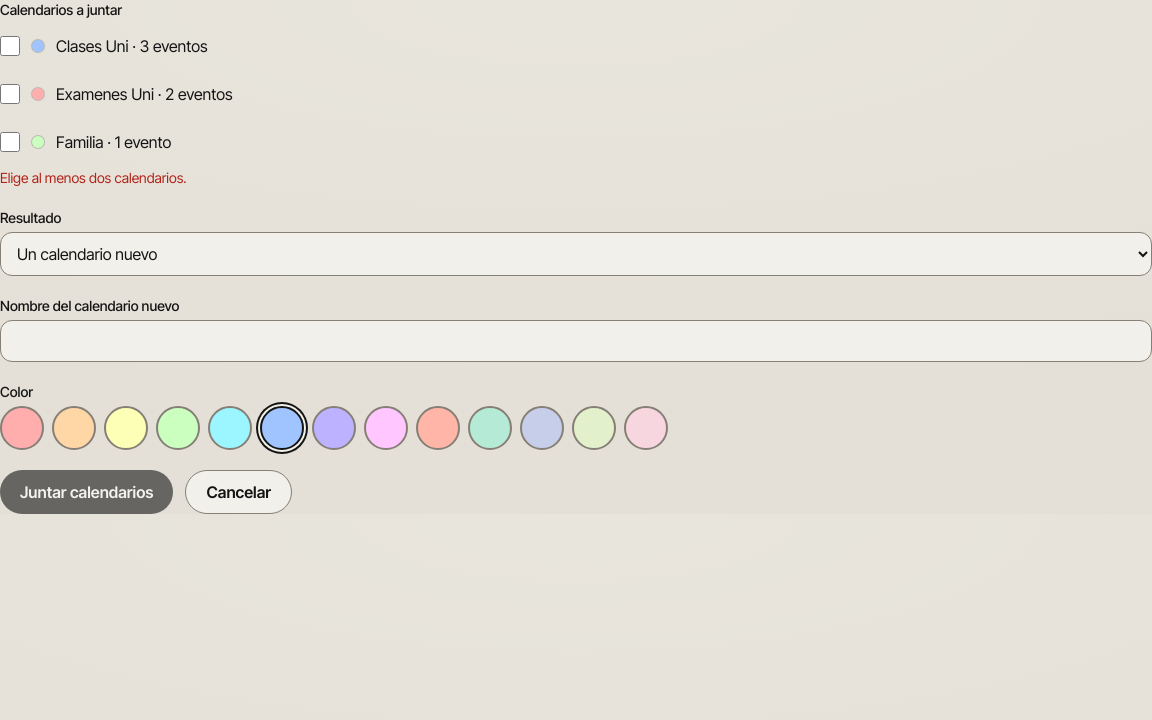
MergeForm (RF-49..RF-52) › asks for confirmation listing what disappears and how many events move into a new calendar (RF-52)
Click the checkbox labelled "Clases Uni · 3 eventos" at x=10, y=46, box 0,36 -> 20,56
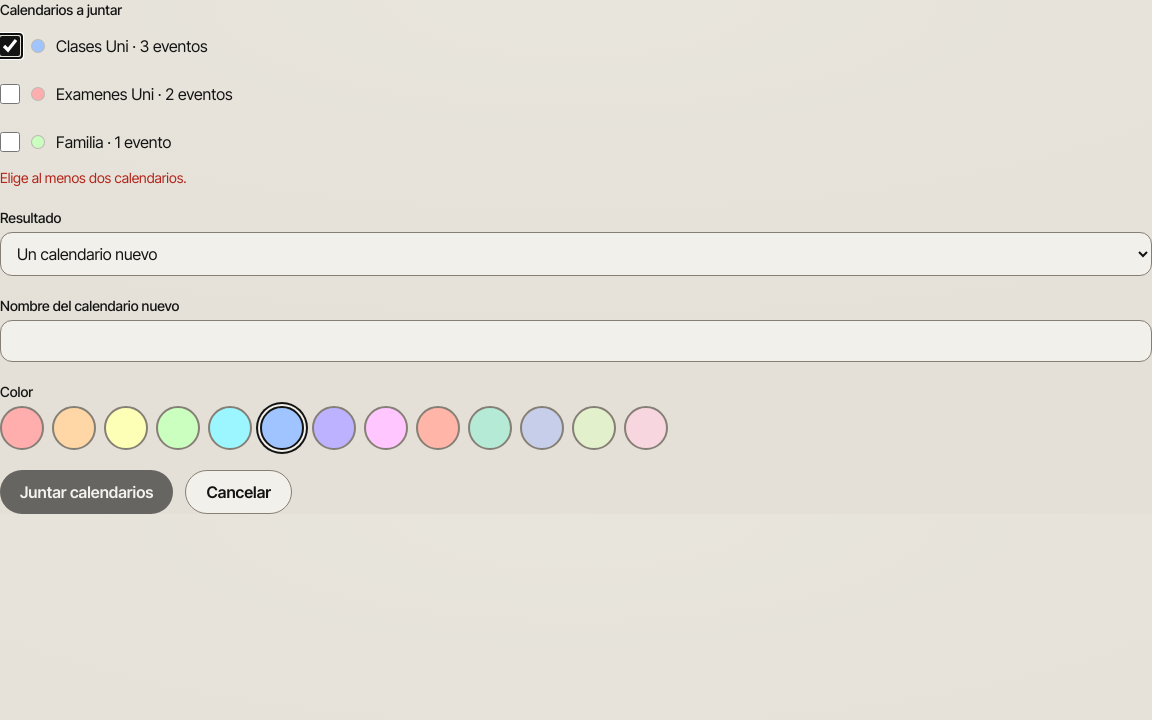
Click the checkbox labelled "Examenes Uni · 2 eventos" at x=10, y=94, box 0,84 -> 20,104
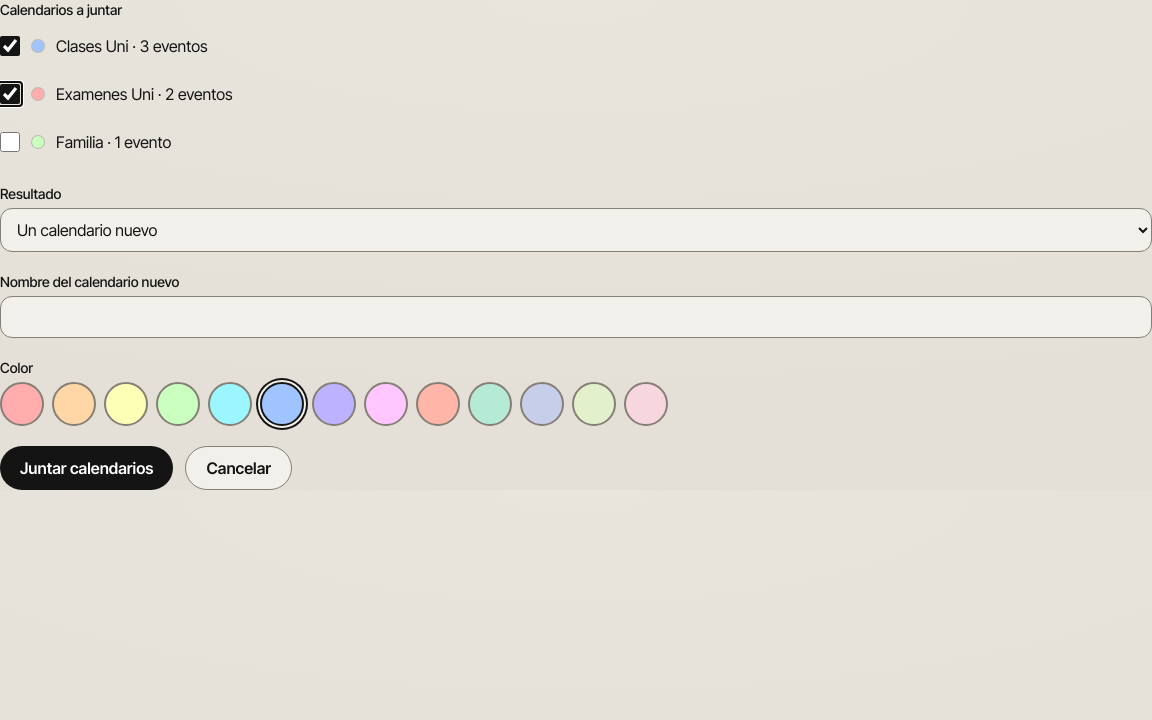
Type "Universidad" into the field labelled "Nombre del calendario nuevo" at x=576, y=317, box 0,296 -> 1151,338
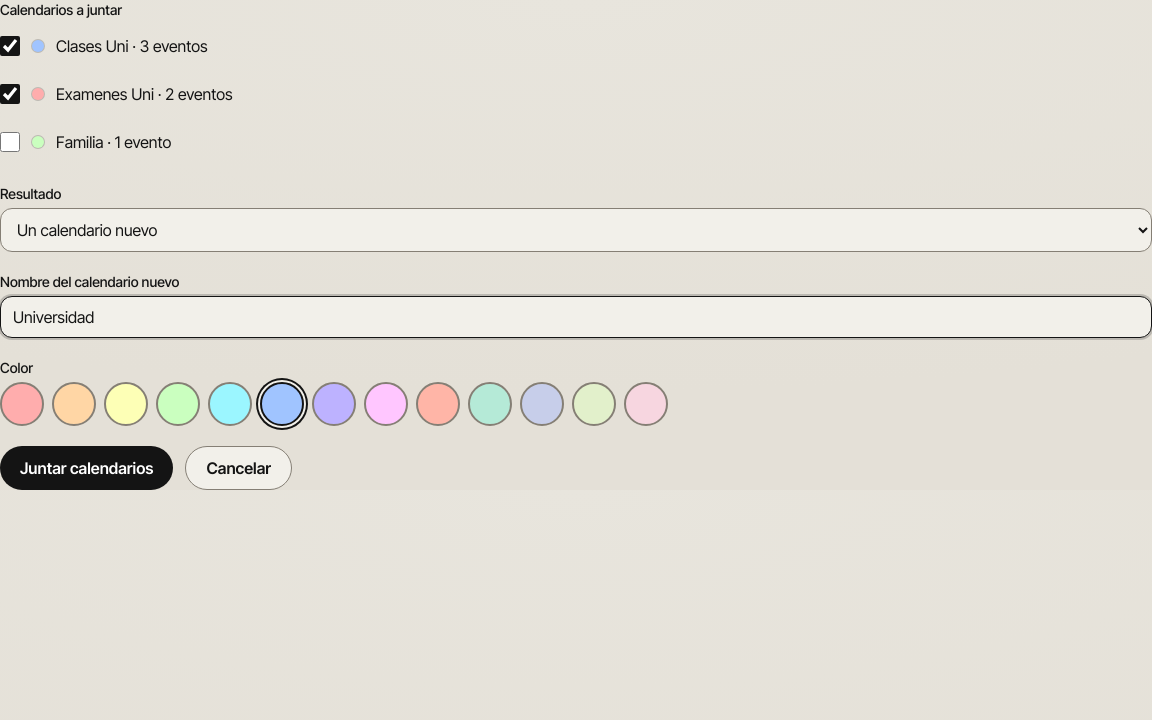
Click the button "Juntar calendarios" at x=87, y=468, box 0,446 -> 174,490
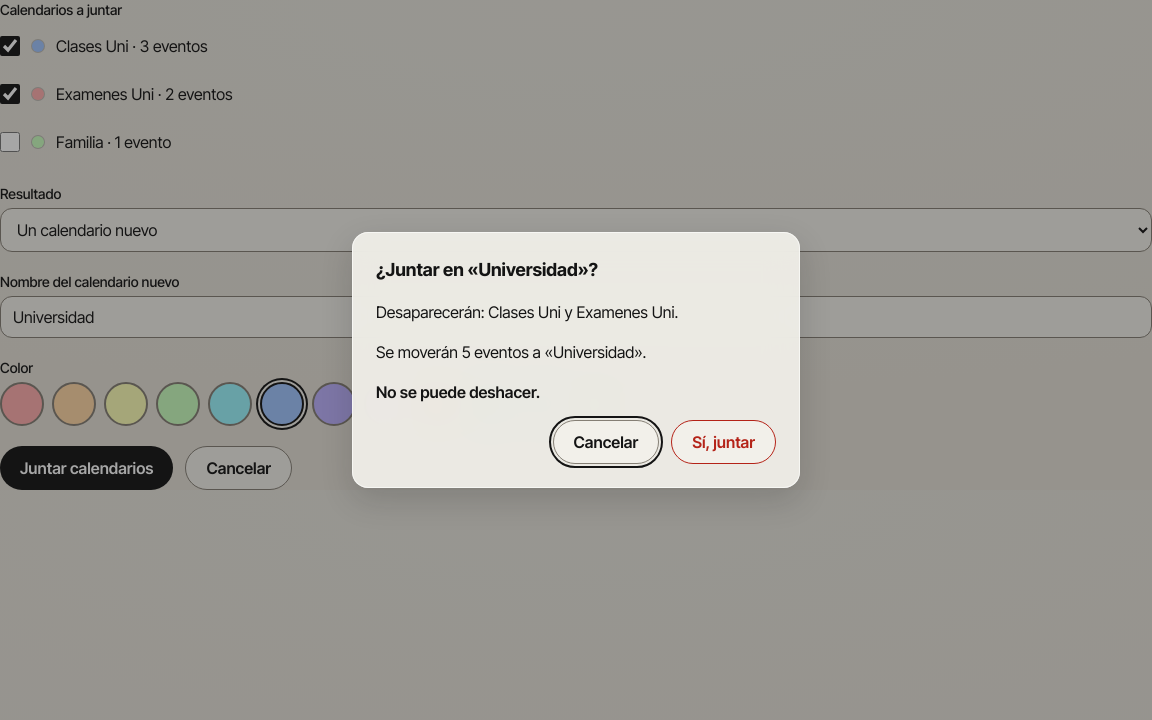
Now the dialog shows "Desaparecerán: Clases Uni y Examenes Uni", box 352,232 -> 800,488
Now the dialog shows "Se moverán 5 eventos", box 376,342 -> 646,362
Now the dialog shows "No se puede deshacer", box 376,382 -> 540,402
